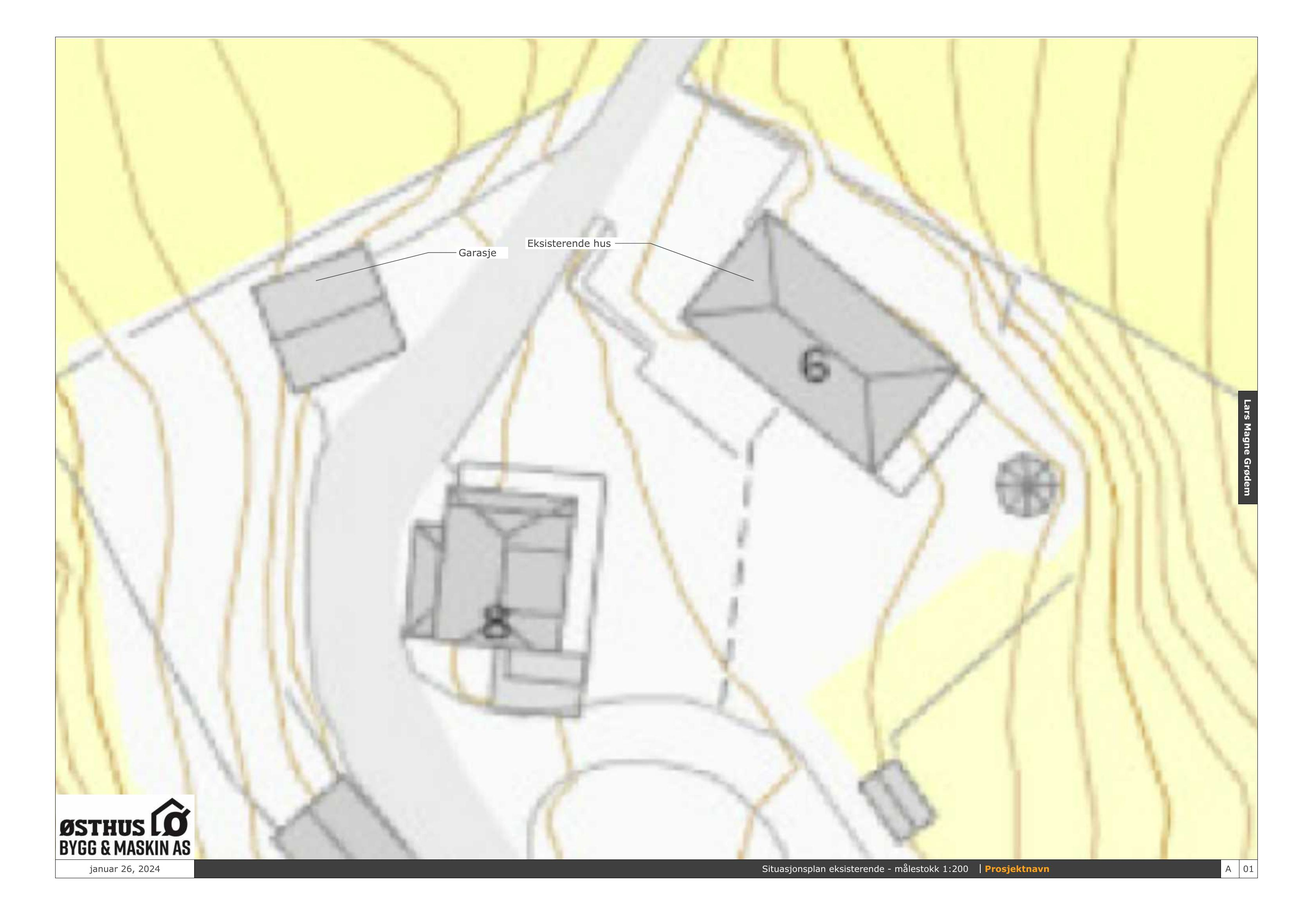fasade: (58, 41, 1253, 856)
